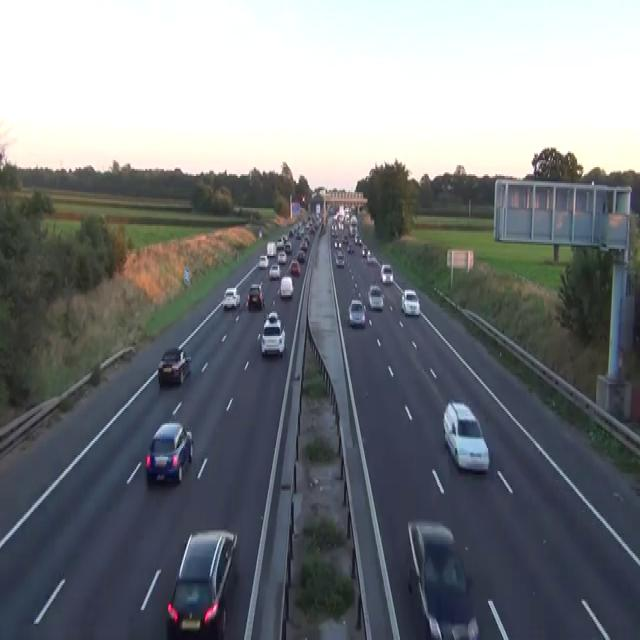Car: (406, 519, 479, 638), (167, 528, 237, 638), (442, 400, 489, 473), (145, 419, 193, 484), (157, 346, 191, 386), (259, 311, 285, 357), (401, 288, 420, 316), (348, 299, 366, 327), (367, 284, 384, 310), (247, 283, 264, 309), (222, 286, 240, 310), (263, 311, 281, 331), (279, 276, 293, 298), (380, 263, 393, 283), (287, 260, 301, 276), (269, 263, 280, 279), (335, 249, 344, 267), (258, 252, 268, 268), (277, 251, 286, 263), (300, 238, 308, 251), (331, 222, 338, 236), (297, 249, 305, 261), (319, 222, 326, 235), (285, 240, 292, 252), (333, 240, 342, 249), (366, 249, 372, 261), (446, 183, 454, 192), (354, 233, 361, 243), (276, 237, 283, 247), (361, 245, 367, 256), (350, 215, 357, 224), (233, 204, 240, 213), (347, 244, 354, 252), (300, 194, 305, 204), (295, 230, 301, 238), (258, 228, 262, 238), (288, 230, 293, 237)
